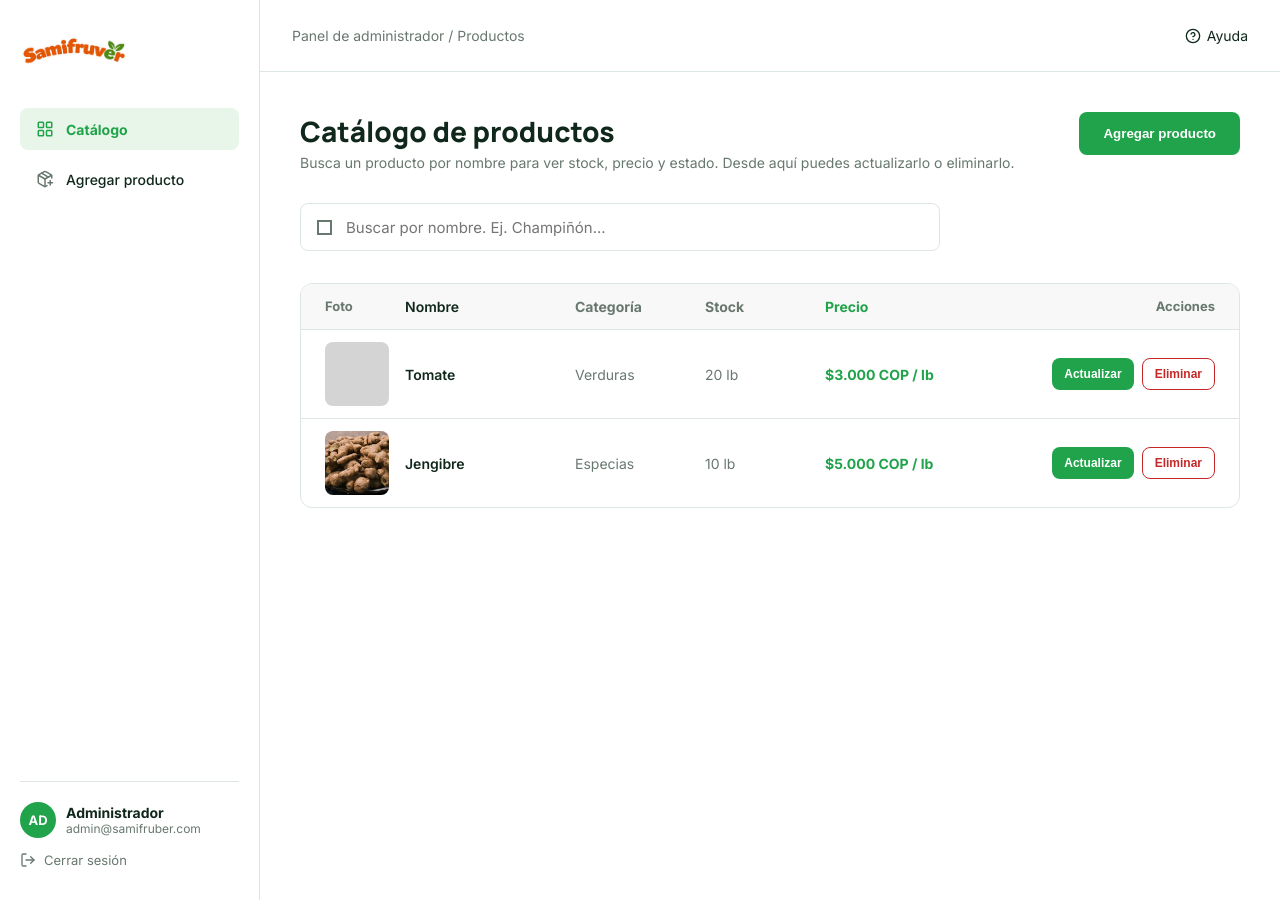
it: Consultar productos (E1-HU3) › E1-HU3 ESC1: búsqueda sin resultados → "No existen coincidencias en el catálogo"
The image size is (1280, 900).
Expected: the text "Tomate" is shown, [405,366,455,382]
Type "zzz" into the field with placeholder "Buscar por nombre. Ej. Champiñón..." at (634,227), box [344,216,923,238]
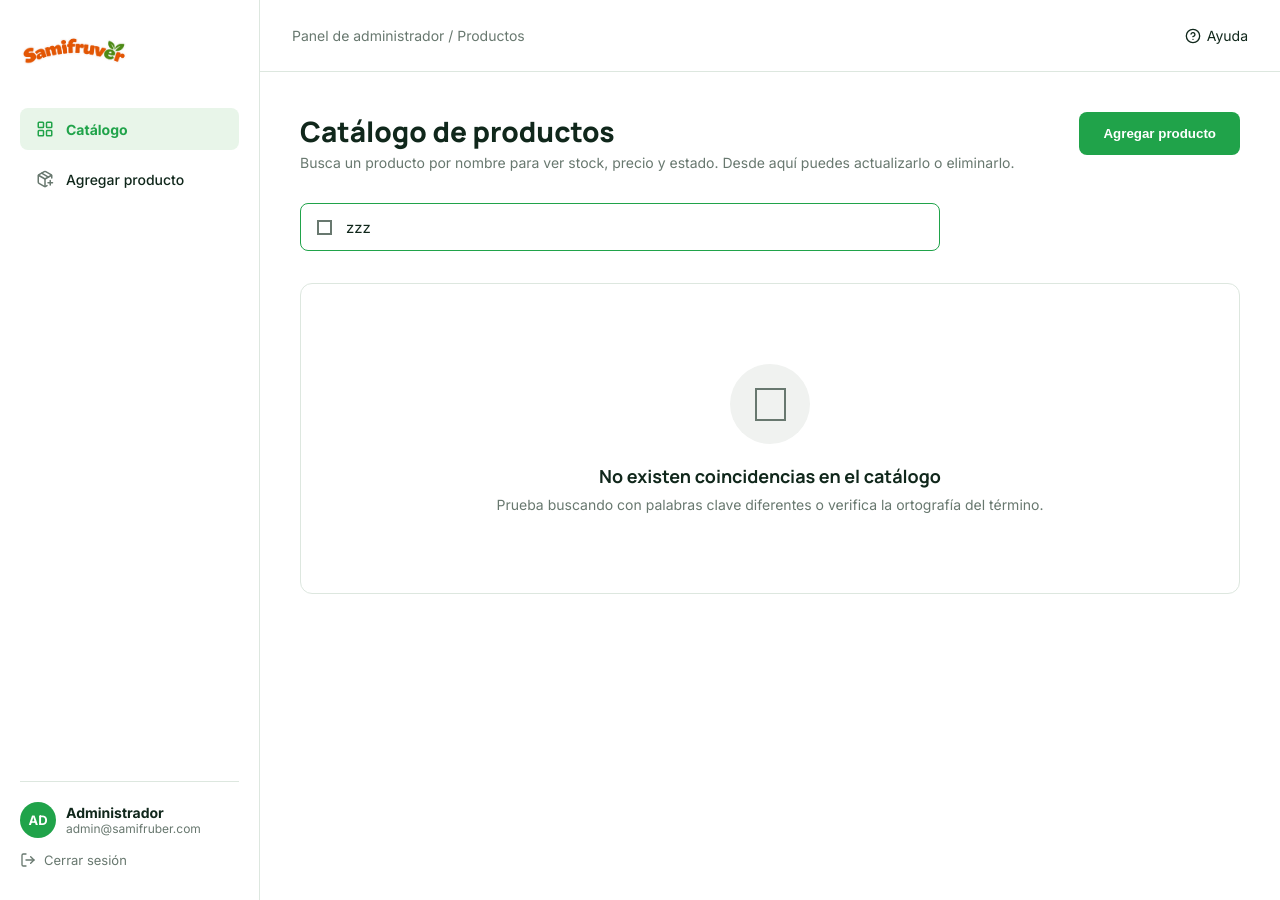
Expected: the heading "No existen coincidencias en el catálogo" is shown, [599,464,941,488]
